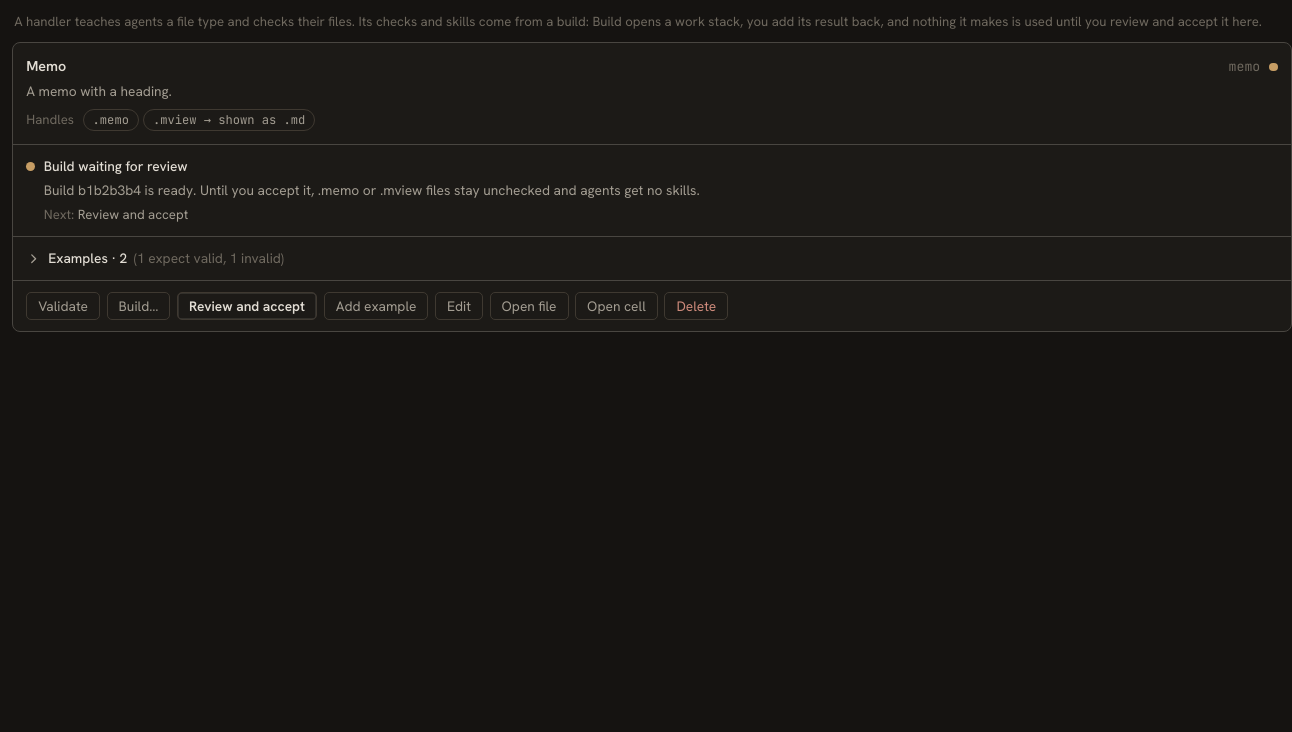
it: A user handler’s card › Build… explains the work stack, then opens it from the saved cell and says how the build comes back
This screenshot has width=1292, height=732.
Expected: the element named "Memo handler" is shown, [12,42,1291,332]
Click the button "Build…": (138, 306) [107,292,170,320]
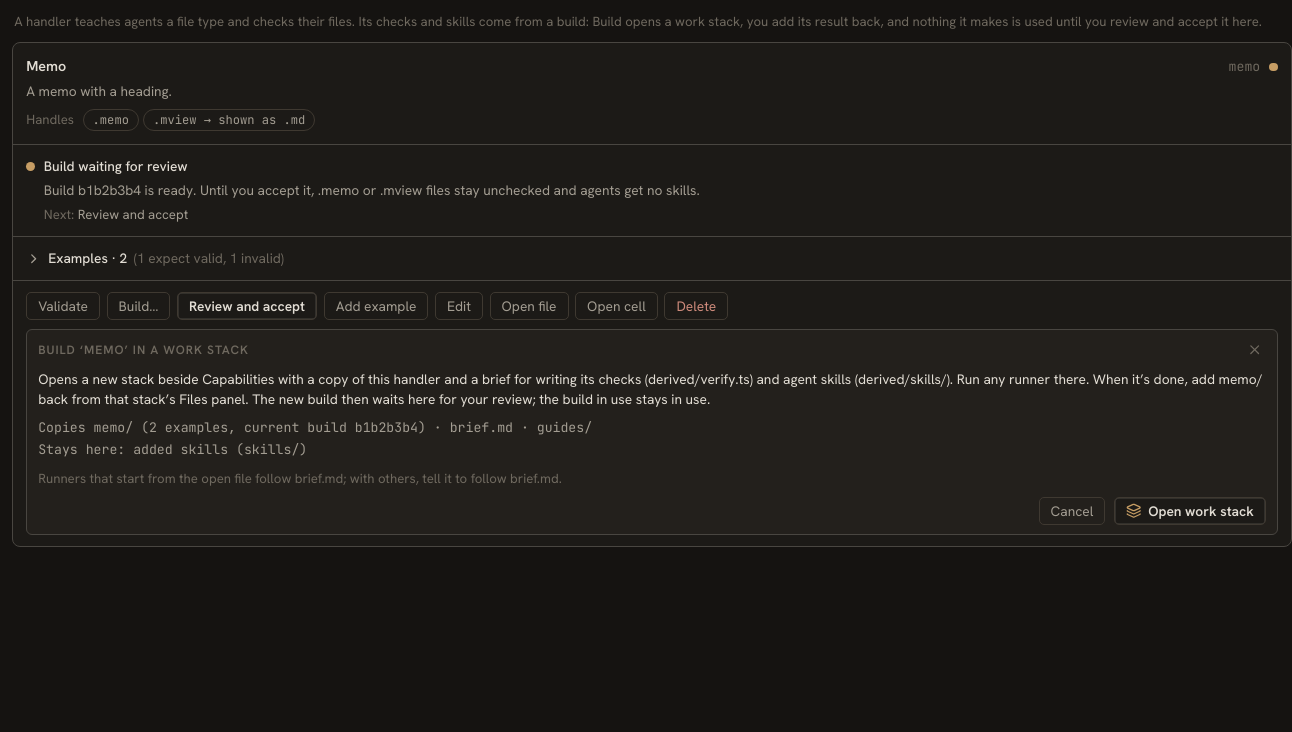
Expected: the element "Build ‘Memo’ in a work stack" shows "Opens a new stack beside Capabilities with a copy of this handler and a brief for writing its checks (derived/verify.ts) and agent skills (derived/skills/). Run", [38,370,1262,408]
Expected: the list item "Copies memo/ (2 examples, current build b1b2b3b4) · brief.md · guides/" is shown, [38,419,592,436]
Expected: the list item "Stays here: added skills (skills/)" is shown, [38,441,307,458]
Click the button "Cancel": (1072, 511) [1038,497,1105,525]
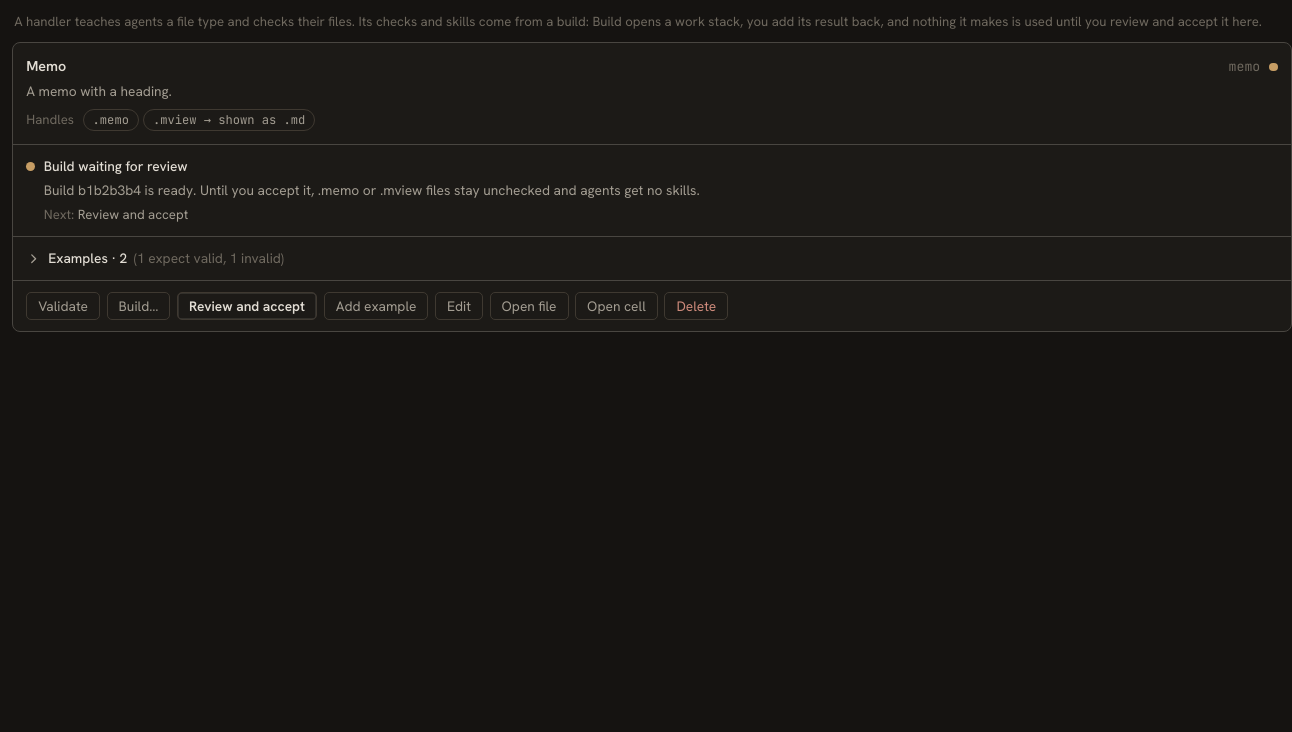
Expected: the heading "Build ‘Memo’ in a work stack" is gone
Click the button "Build…": (138, 306) [107,292,170,320]
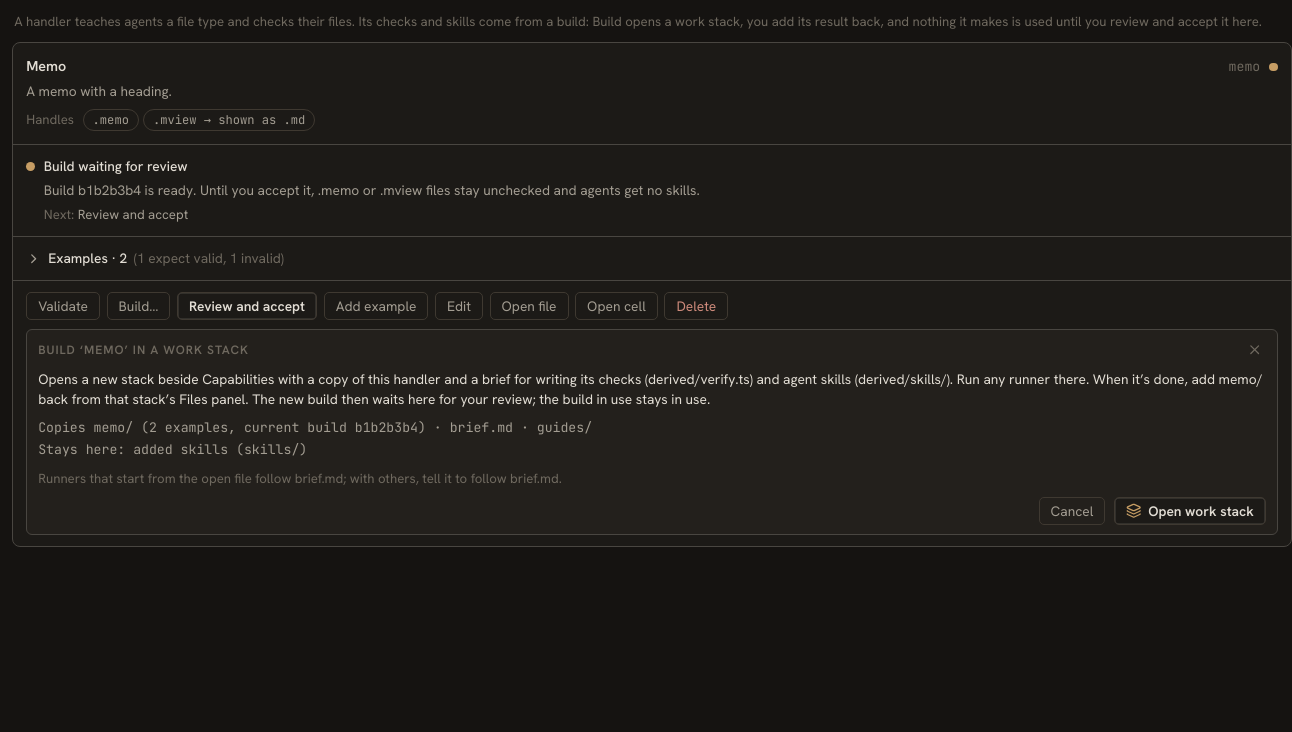
Click the button "Open work stack": (1190, 511) [1114,497,1266,525]
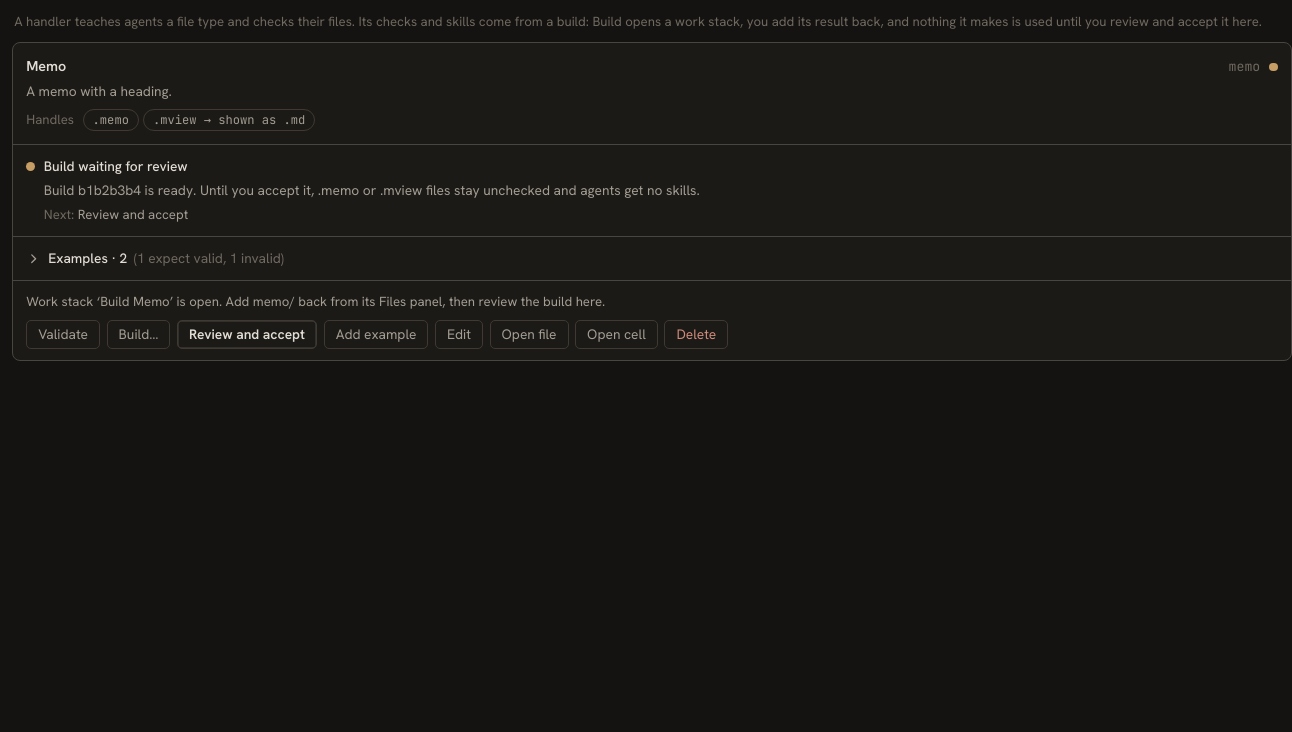
Expected: the message shows "Work stack ‘Build Memo’ is open. Add memo/ back from its Files panel, then review the build here.", [26,293,605,310]
Expected: the heading "Build ‘Memo’ in a work stack" is gone
